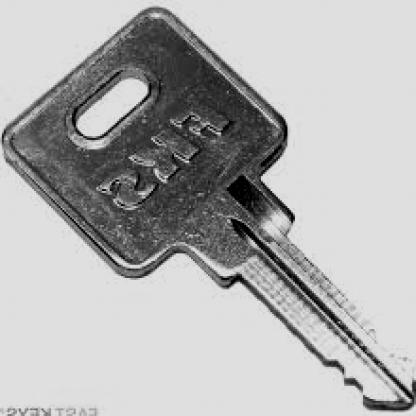key: (7, 4, 408, 416)
